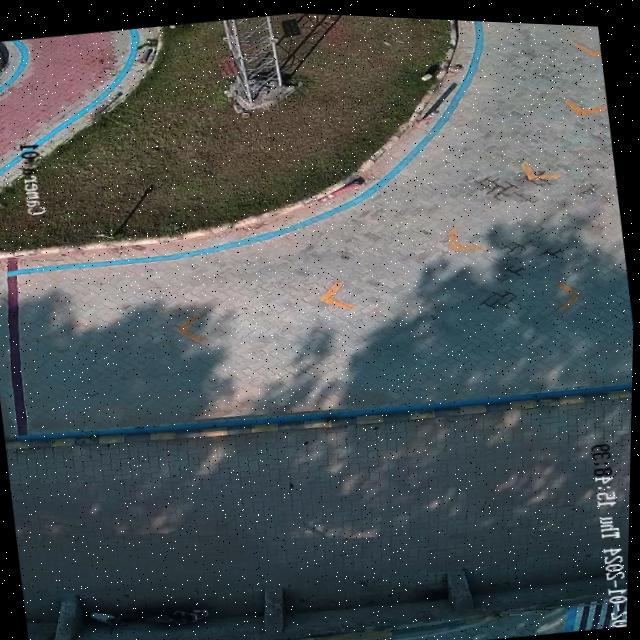No Car: (0, 10, 635, 640)
